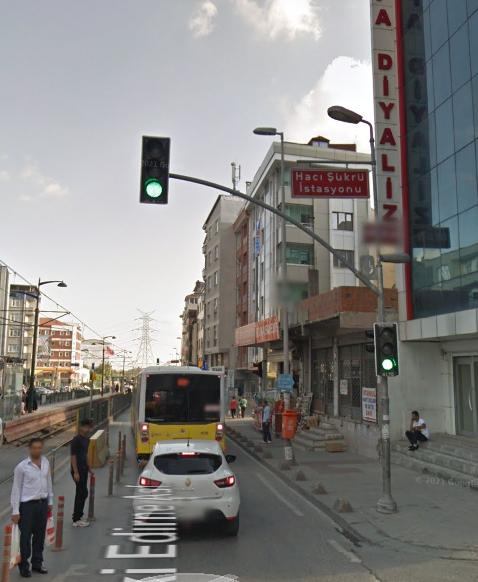greenlight: (139, 137, 170, 205), (375, 322, 398, 377)
